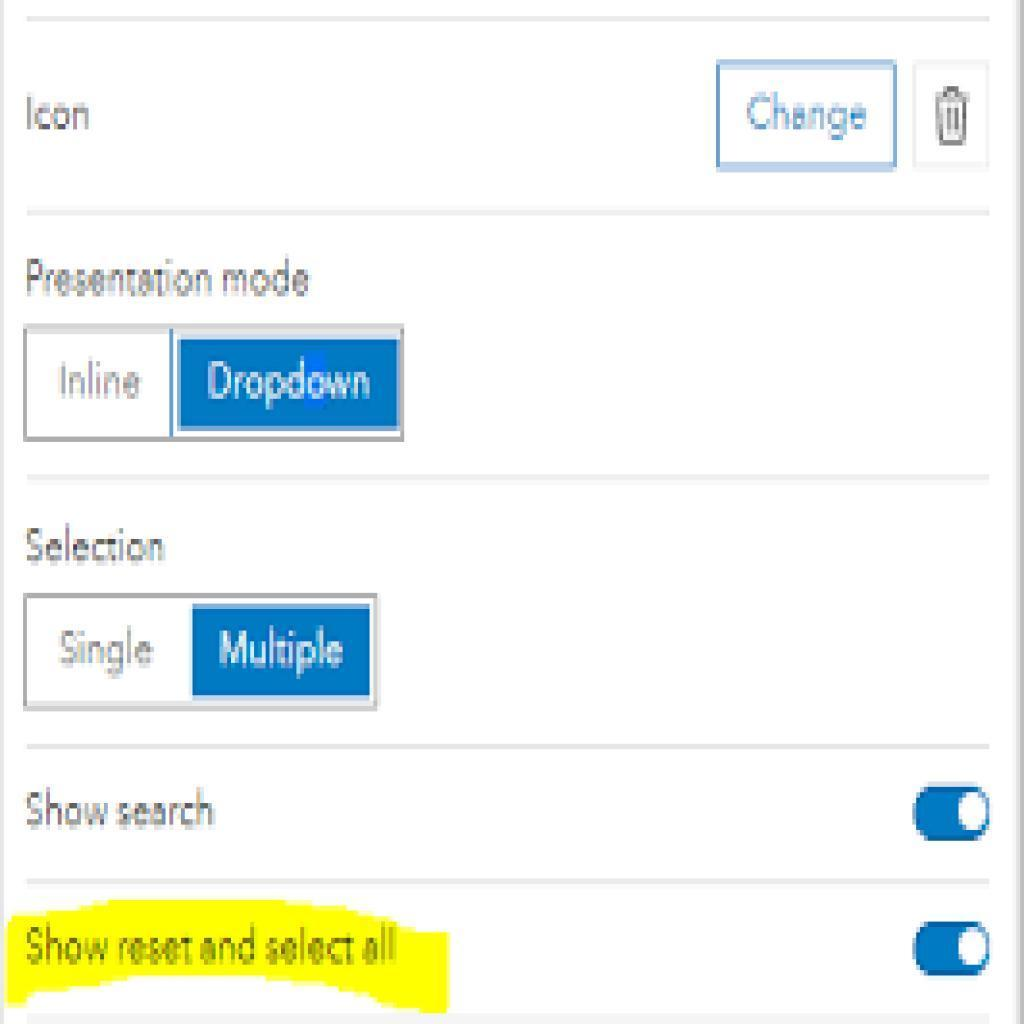button: (180, 341, 403, 431), (717, 62, 896, 168), (194, 607, 371, 697), (25, 336, 169, 437)
icon: (928, 71, 975, 160)
label: (25, 924, 401, 969), (27, 248, 316, 298), (25, 788, 220, 836), (20, 525, 165, 570), (61, 625, 155, 680), (22, 90, 99, 138)
switch: (912, 785, 991, 845), (913, 920, 991, 979)
